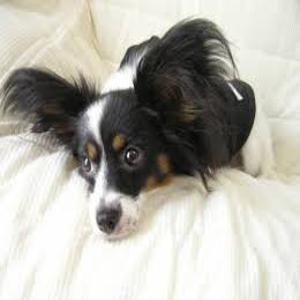yell: (2, 16, 274, 240)
